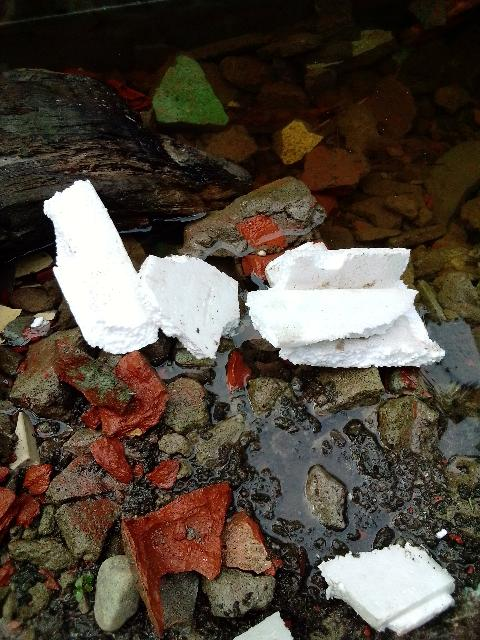cocksheet: (17, 167, 175, 377), (249, 229, 443, 385), (312, 504, 468, 640), (146, 235, 252, 365)
